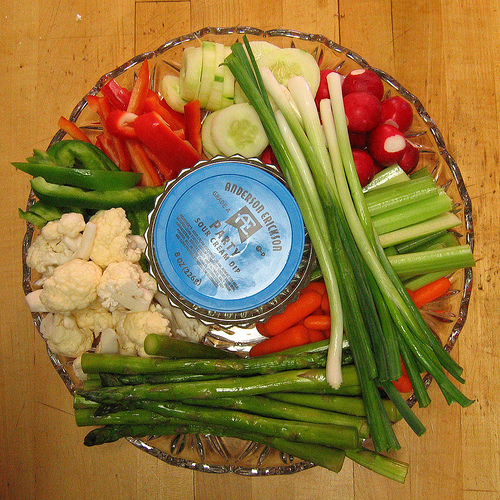cucumber: (157, 37, 322, 158)
